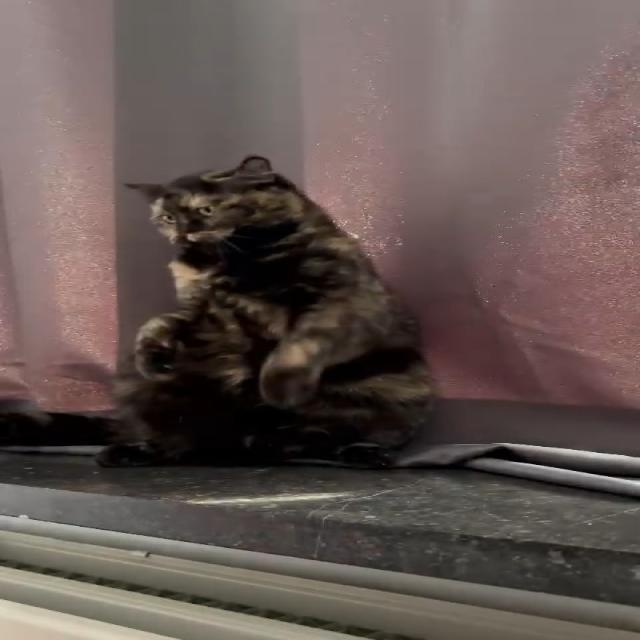authorized: (93, 154, 436, 469)
